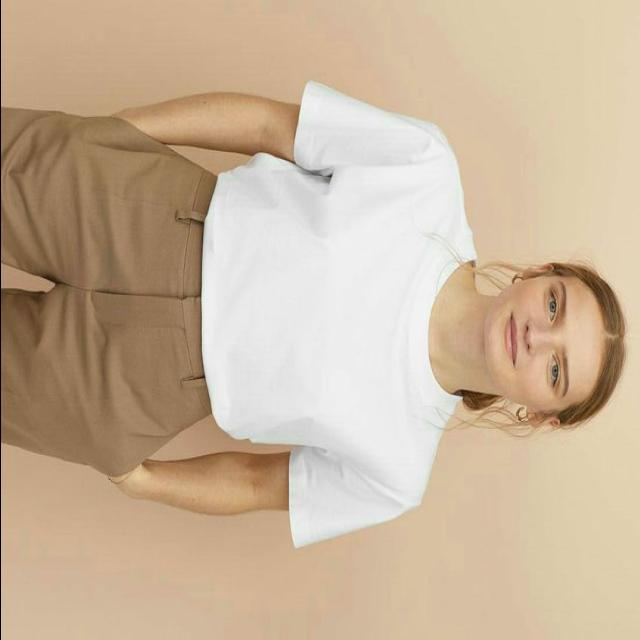shoulder: (371, 121, 461, 521)
